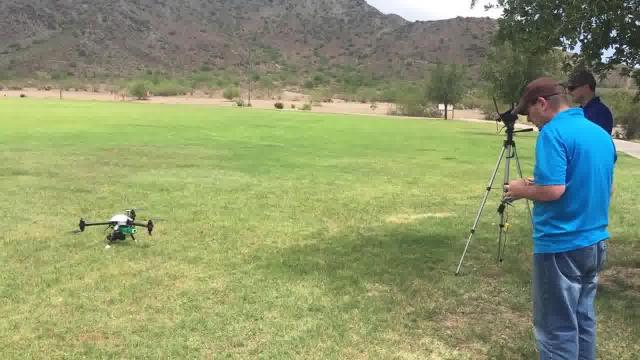drone: (35, 187, 201, 260)
